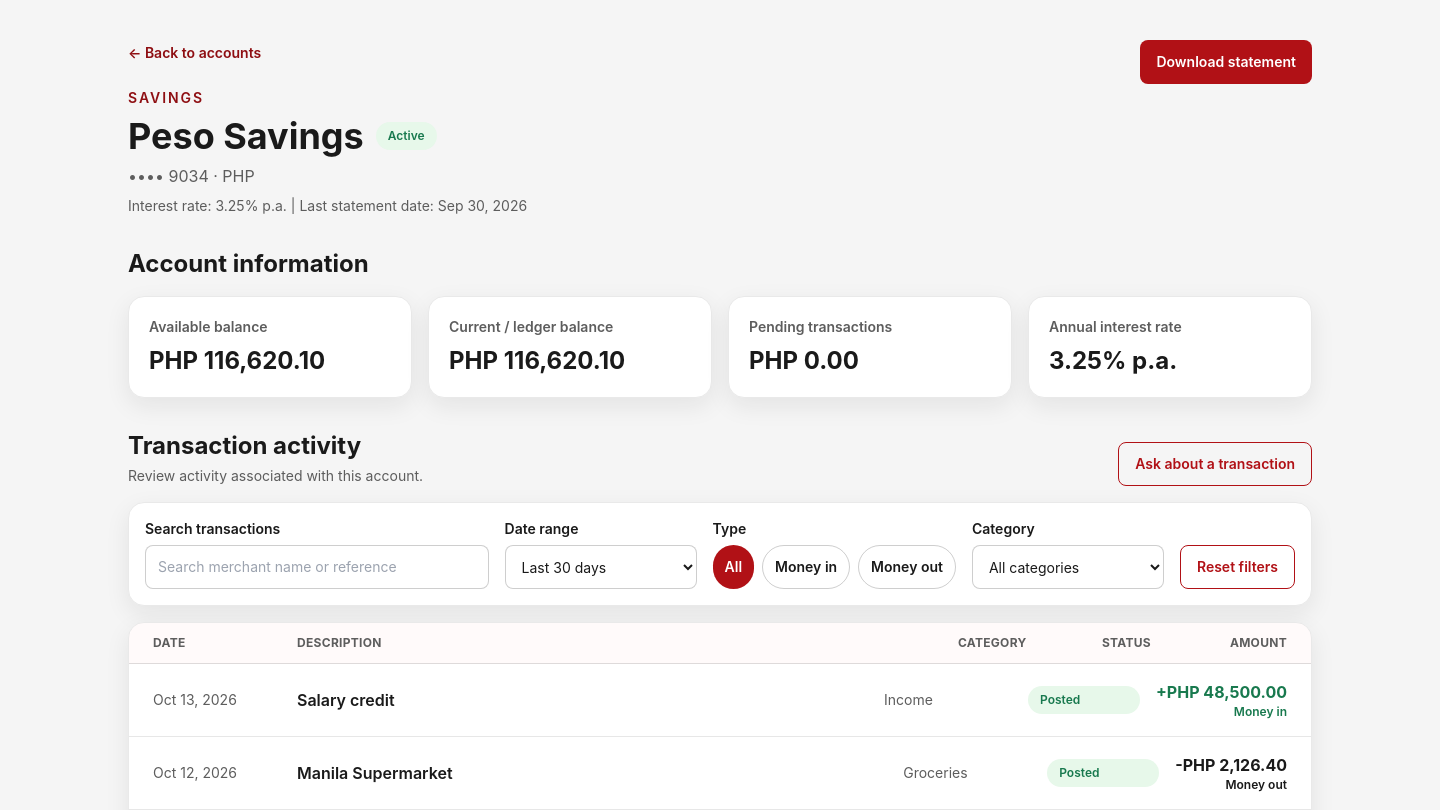
Test: AccountDetailPage › renders transaction activity and supports searching the displayed transactions
This screenshot has width=1440, height=810.
Expected: the text "Salary credit" is shown, 297,690 -> 395,710
Expected: the text "Manila Supermarket" is shown, 297,763 -> 452,783
Type "manila" into the search field labelled "Search transactions" at (317,567), box 145,545 -> 489,589
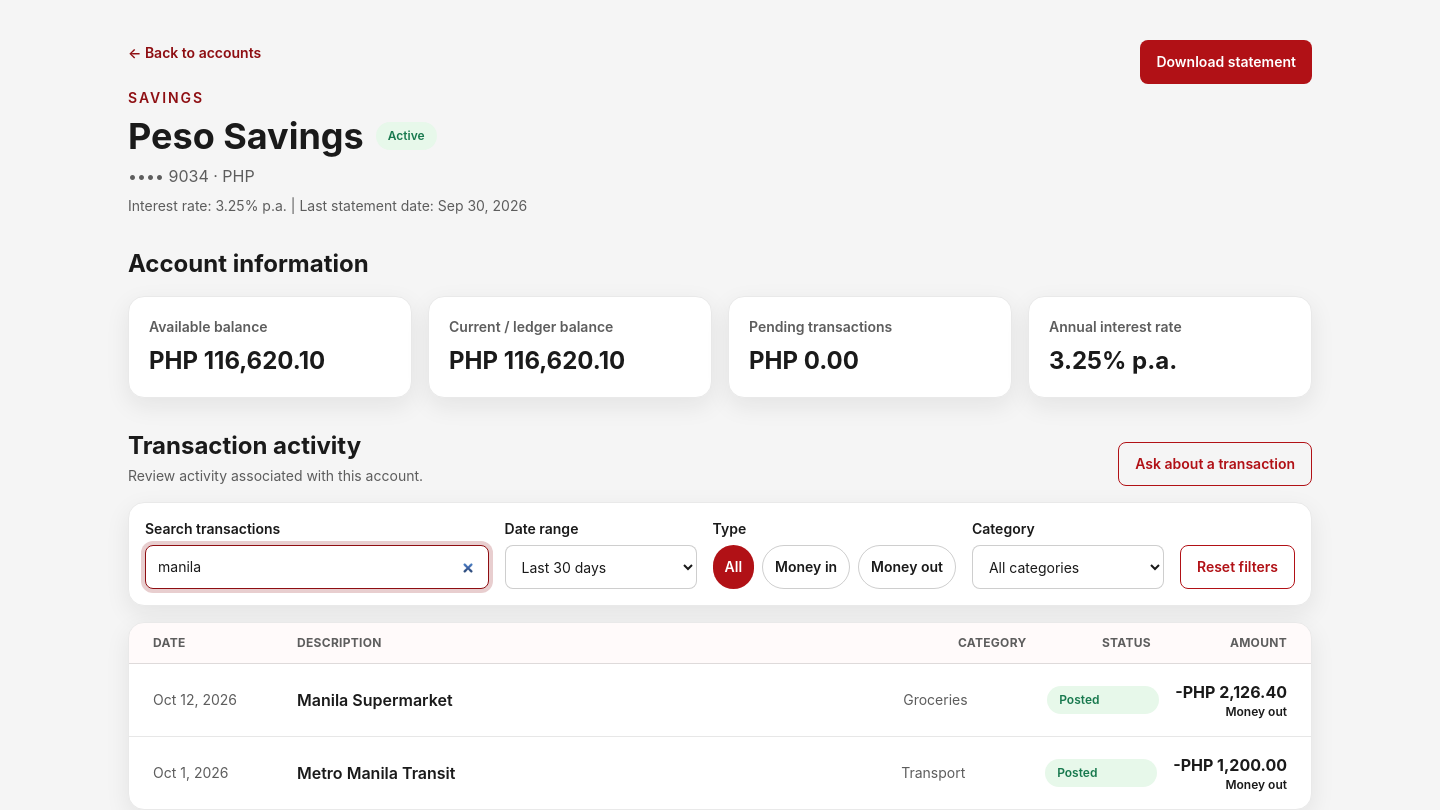
Expected: the text "Manila Supermarket" is shown, 297,690 -> 452,710
Result: the button "Salary credit" is gone
